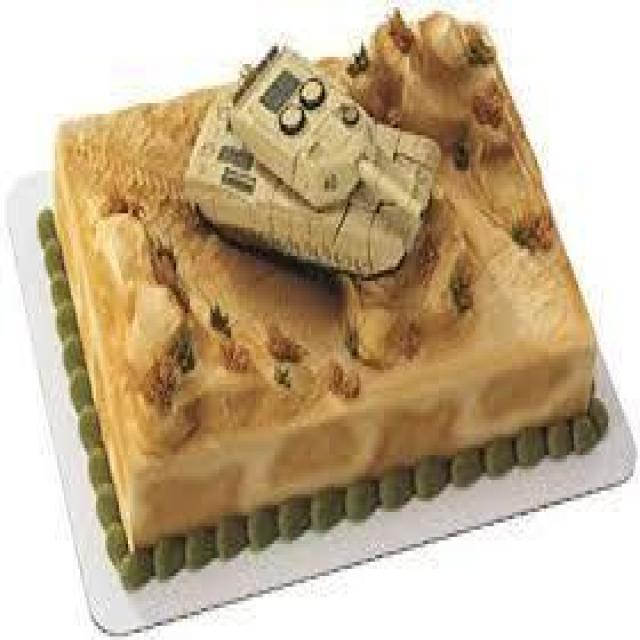Tanks: (156, 30, 467, 347)
